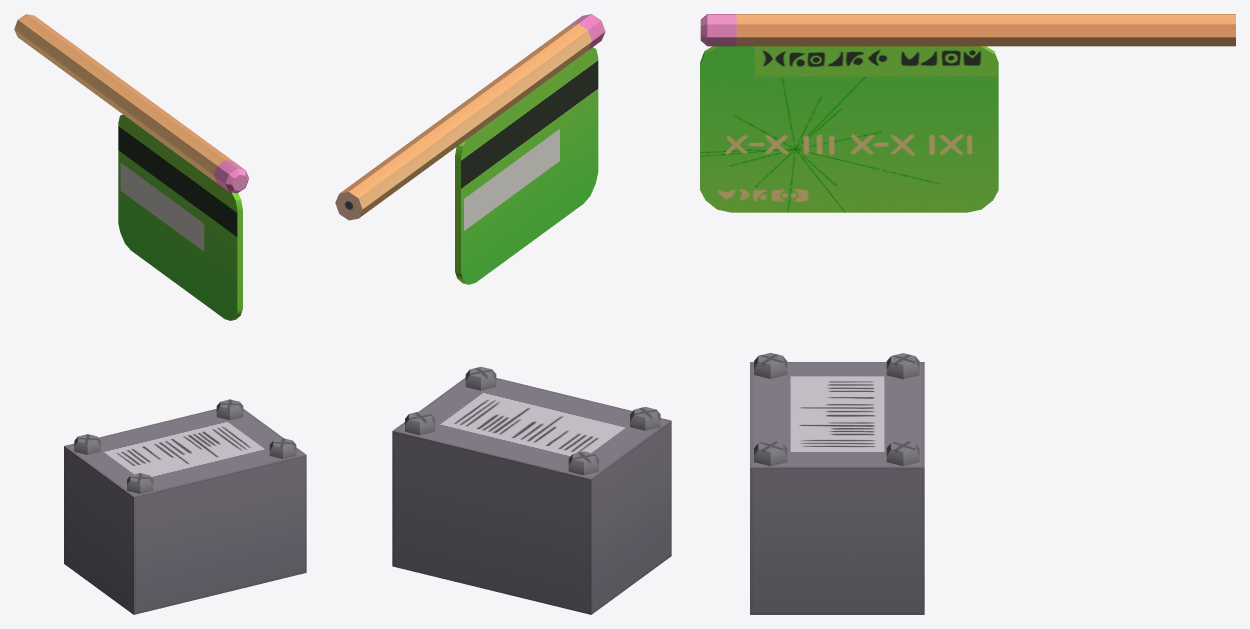
Rendered from env_motor_and_mechanism_export_01.fbx.
3 views of the same model, side by side, from view 1: azimuth 30°, elevation 25°; view 2: azimuth 150°, elevation 25°; view 3: azimuth 270°, elevation 25° (orthographic). The views are drawn at different scales.
Parts seen in each view (by area): view 1: motor, credit_card, pencil; view 2: motor, credit_card, pencil; view 3: credit_card, motor, pencil.
Boxes of the visible parts, <box> form: motor: <box>64,399,306,614</box>; credit_card: <box>118,114,242,320</box>; pencil: <box>14,14,248,193</box>; motor: <box>392,366,671,614</box>; credit_card: <box>455,47,598,284</box>; pencil: <box>335,14,605,220</box>; credit_card: <box>700,46,998,212</box>; motor: <box>750,352,924,614</box>; pencil: <box>700,14,1235,46</box>.
Size of the model in its own units: 5.28 by 12.76 by 11.31.
Materials: 3 (3 with a texture image).
